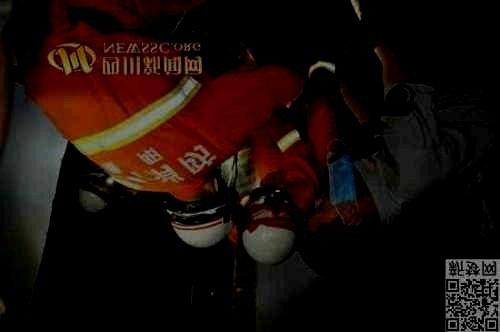helmet: (162, 179, 232, 247), (241, 194, 295, 264), (79, 171, 110, 211)
